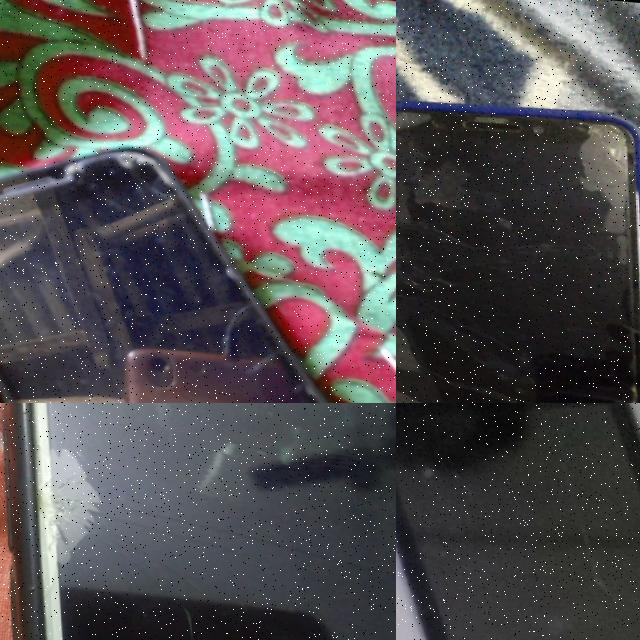screen crack: (3, 403, 299, 600), (0, 108, 197, 298), (200, 277, 324, 394), (551, 499, 628, 601), (578, 104, 640, 167)
